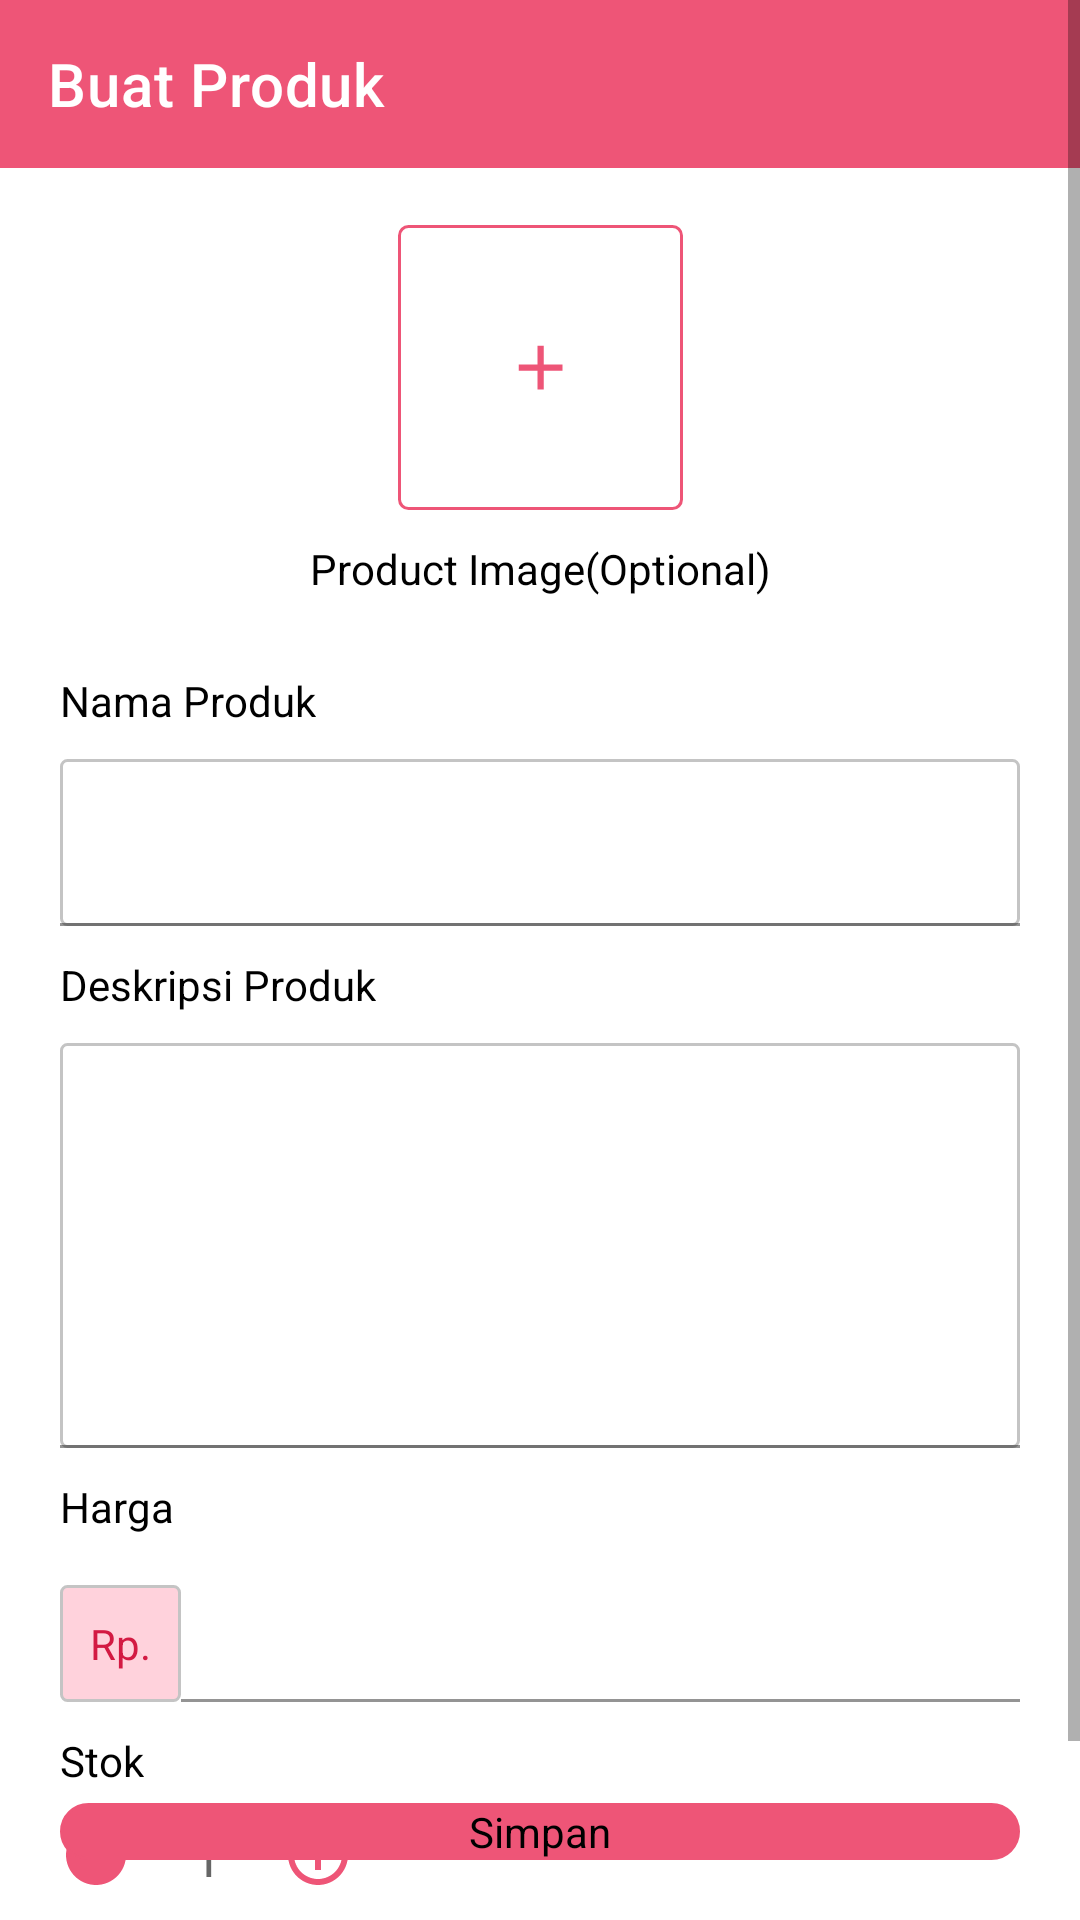

Where icons sit on this 1080px x 1920px app screen, as (x1, y1, x2, y2):
add: (518, 345, 563, 390)
